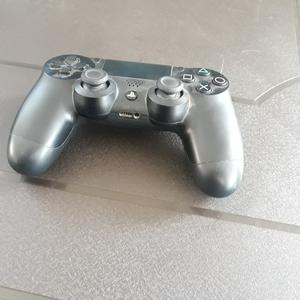controller: (7, 54, 245, 198)
